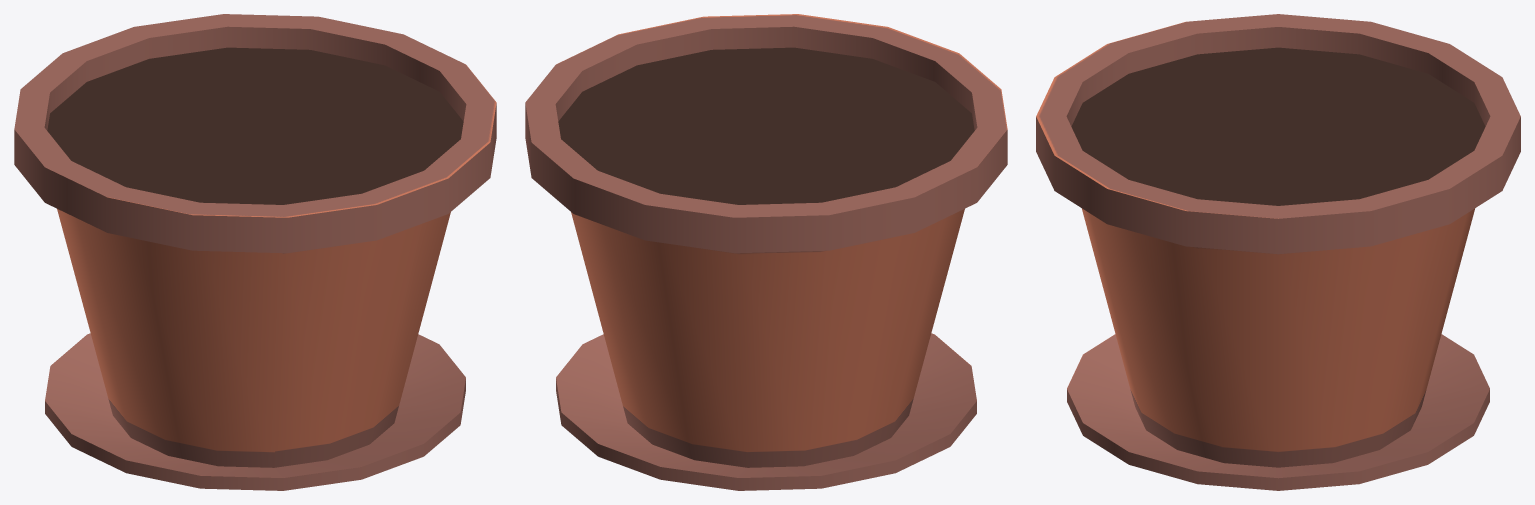
The model's file is PlanterPot.fbx.
3 views of the same model, side by side, from view 1: azimuth 30°, elevation 25°; view 2: azimuth 150°, elevation 25°; view 3: azimuth 270°, elevation 25° (orthographic).
Parts seen in each view (by area): view 1: Cylinder; view 2: Cylinder; view 3: Cylinder.
Part boxes in pixels (x1,y1,x2,y2): Cylinder: [14, 14, 496, 490]; Cylinder: [525, 14, 1007, 490]; Cylinder: [1036, 14, 1520, 490].
Size of the model in its own units: 338 by 234 by 338.
